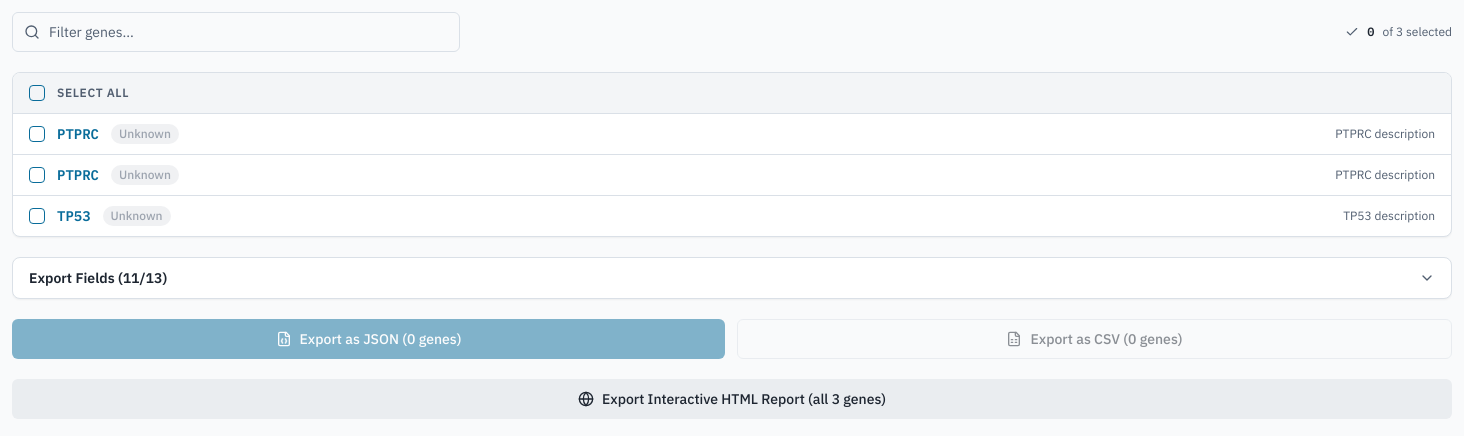
Scenario: ReportBuilder selection is index-safe › select-all toggles every row including duplicate symbols
The width and height of the screenshot is (1464, 436).
What coordinates should you click on to do the following:
click the checkbox named "select all filtered genes"
I would click on:
 (37, 93)
Its box is [29,85,45,101].
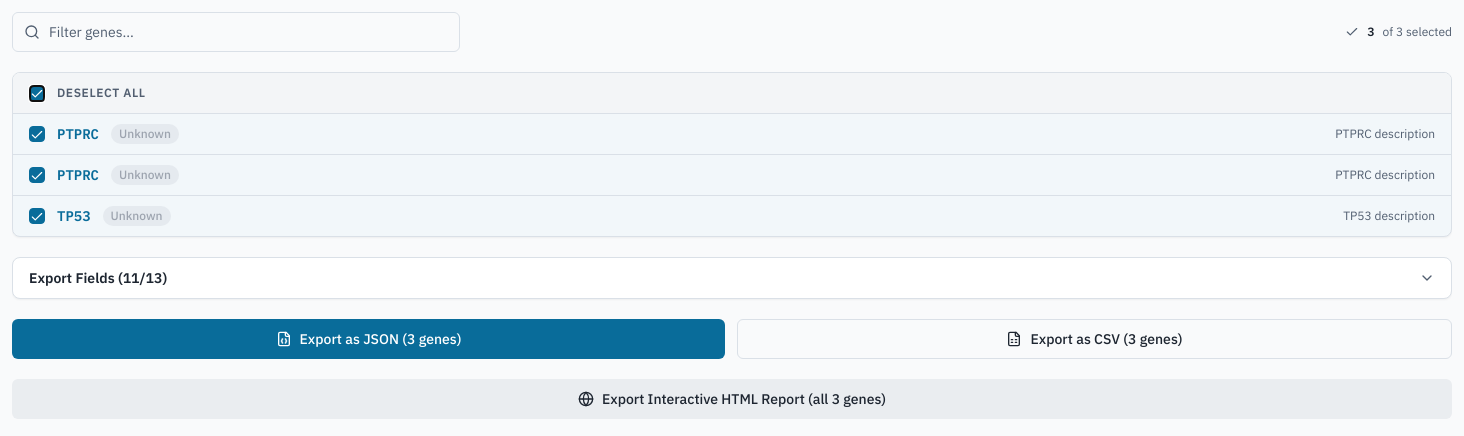
Expected: the text "3" is shown, [1367,24,1374,40]
